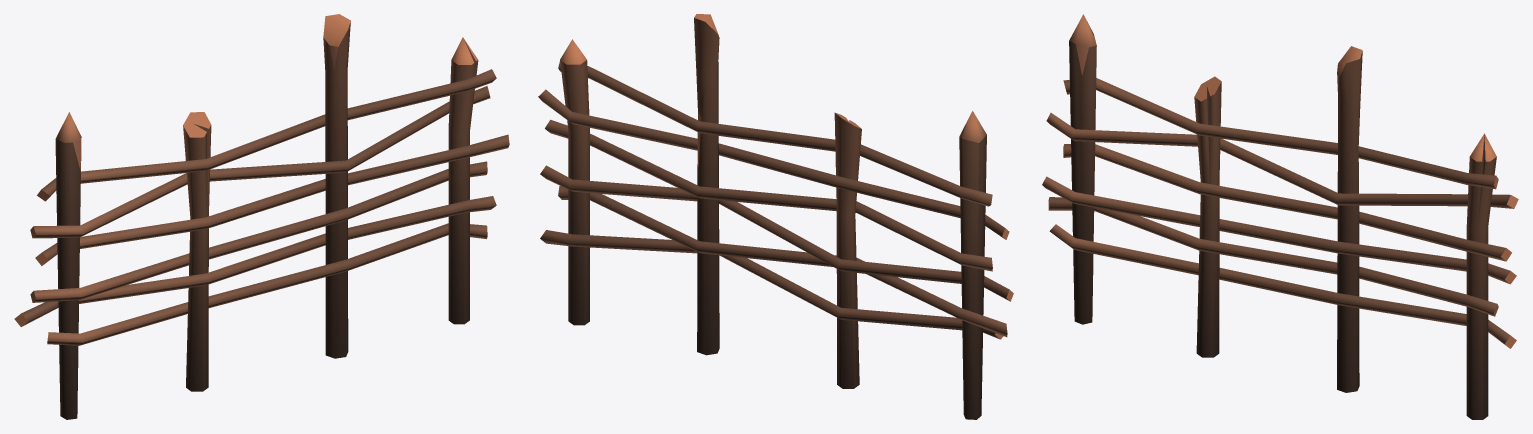
File: Fence_3A.FBX
The picture shows the model from 3 angles, left to right: view 1: azimuth 30°, elevation 25°; view 2: azimuth 150°, elevation 25°; view 3: azimuth 330°, elevation 25°; orthographic projection.
Parts seen in each view (by area): view 1: Fence_3A; view 2: Fence_3A; view 3: Fence_3A.
Part boxes in pixels (<box>): Fence_3A: <box>14,14,509,419</box>; Fence_3A: <box>538,14,1013,419</box>; Fence_3A: <box>1042,14,1518,419</box>.
Size of the model in its own units: 198 by 132 by 19.83.
